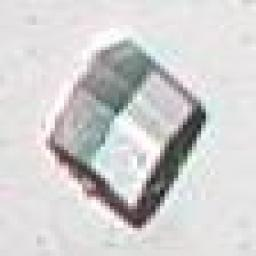crystals: (39, 36, 216, 234)
